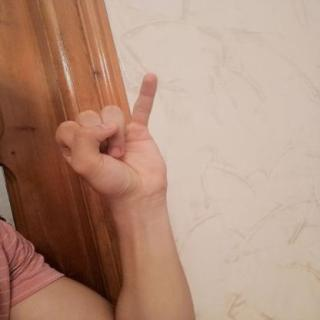MEEM: (40, 65, 187, 206)
